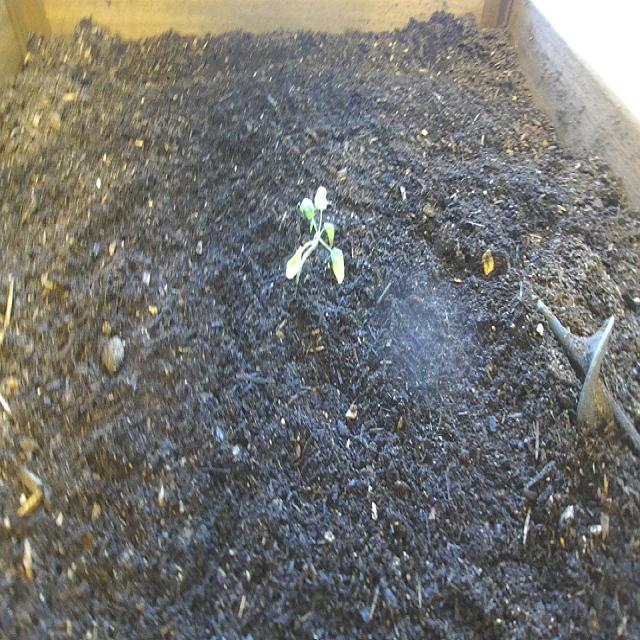Healthy: (278, 162, 352, 302)
